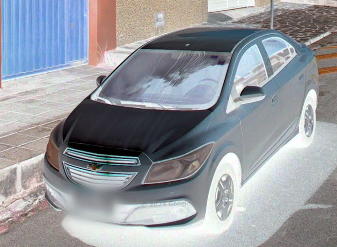car: (44, 25, 320, 234)
